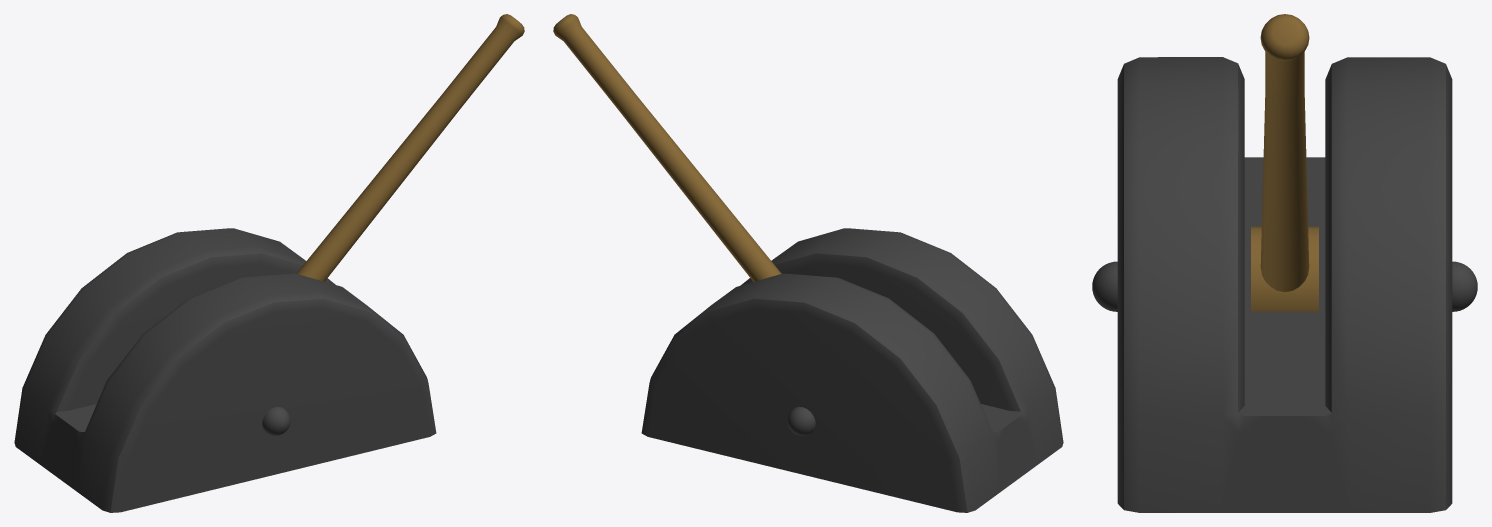
Rendered from Flip Lever.fbx.
3 renders of one model, left to right at view 1: azimuth 30°, elevation 25°; view 2: azimuth 150°, elevation 25°; view 3: azimuth 270°, elevation 25°, orthographic. The views are drawn at different scales.
Parts seen in each view (by area): view 1: Lever_Base, Lever_Handle; view 2: Lever_Base, Lever_Handle; view 3: Lever_Base, Lever_Handle.
Part boxes in pixels (x1,y1,x2,y2): Lever_Base: (14, 228, 436, 512); Lever_Handle: (296, 14, 524, 281); Lever_Base: (641, 228, 1063, 512); Lever_Handle: (553, 14, 781, 281); Lever_Base: (1092, 57, 1477, 512); Lever_Handle: (1251, 14, 1318, 311).
Size of the model in its own units: 2.79 by 2.03 by 1.2.
